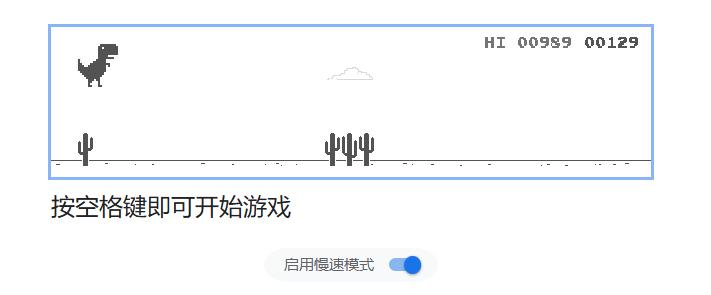cactus: (323, 132, 374, 168), (76, 132, 94, 167)
dino: (75, 42, 118, 88)
